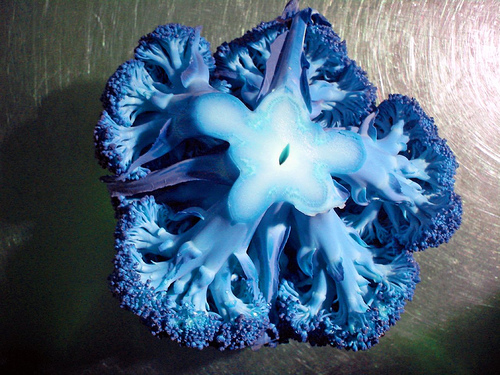broccoli: (92, 3, 464, 353)
